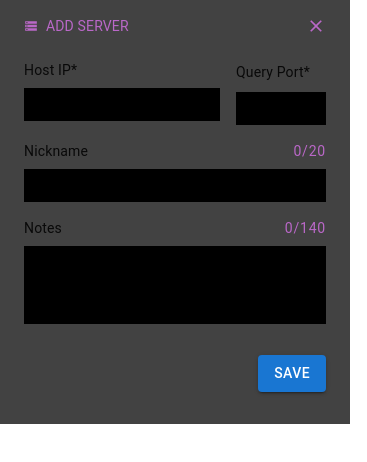
Test: AddServerForm component › validates form on submit
Click the button "SAVE" at (292, 373), box 258,355 -> 326,392
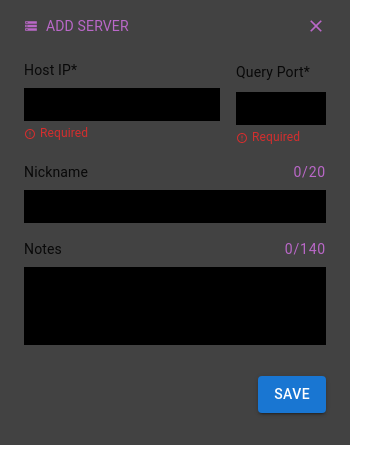
Expected: the number of messages is 2, 24,126 -> 88,140; 236,130 -> 300,144
